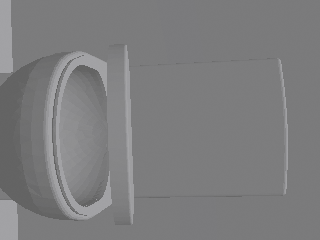lid_1: (107, 44, 133, 224)
